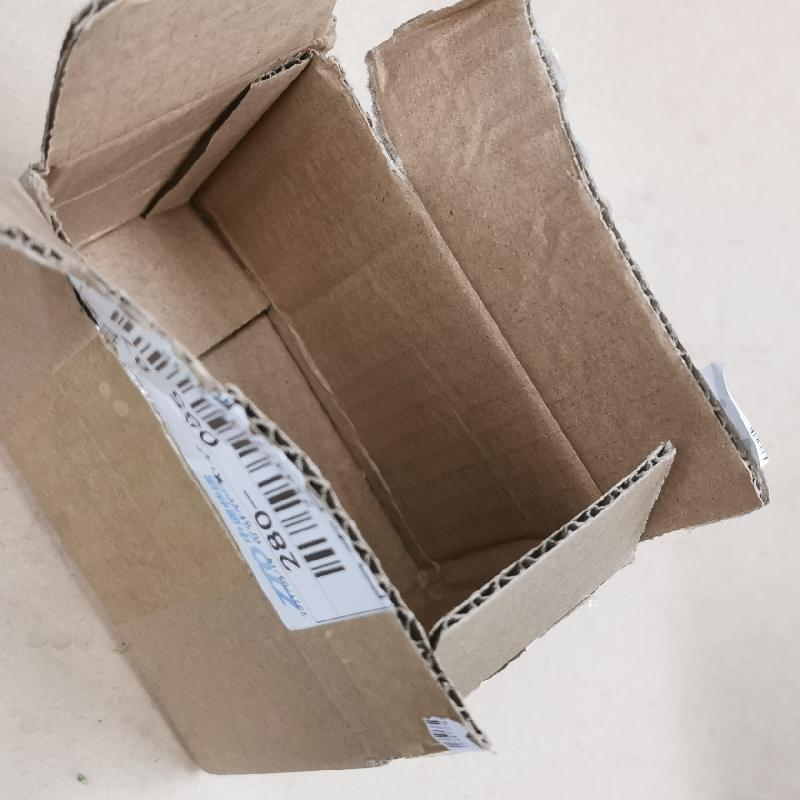boxes: (9, 2, 768, 781)
